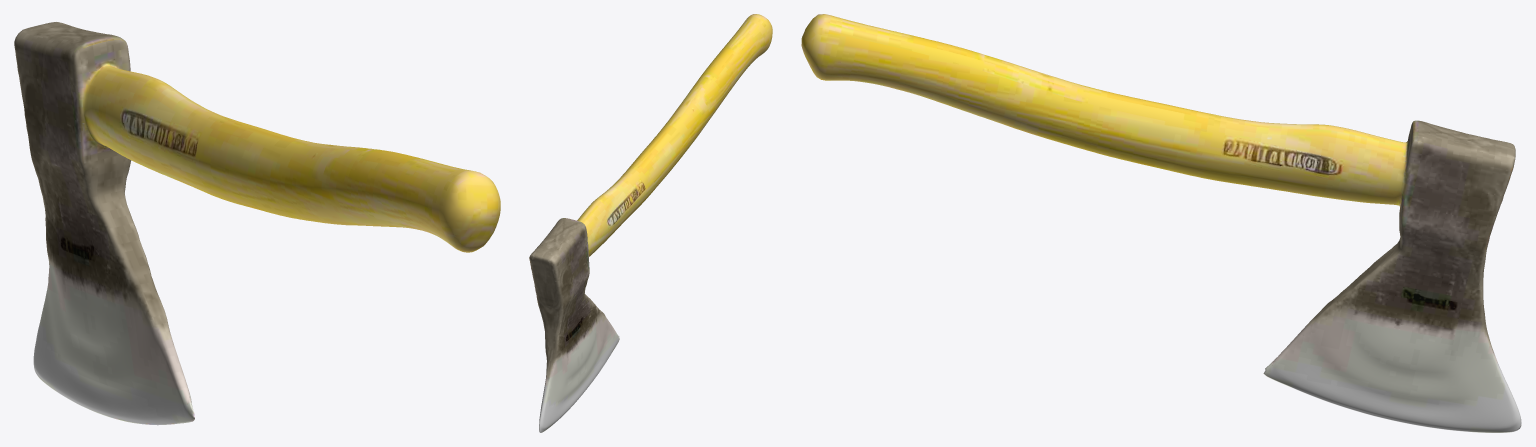
Rendered from axe0.glb.
3 views of the same model, side by side, from view 1: azimuth 30°, elevation 25°; view 2: azimuth 150°, elevation 25°; view 3: azimuth 270°, elevation 25° (orthographic). The views are drawn at different scales.
Visible parts, largest first — view 1: model; view 2: model; view 3: model.
Boxes of the visible parts, x1,y1,x2,y2 form: model: (14,22,500,425); model: (529,14,772,432); model: (801,14,1521,432).
Bounding box in the file's own units: 0.1117 × 1 × 1.56.
Materials: 1 (1 with a texture image).
